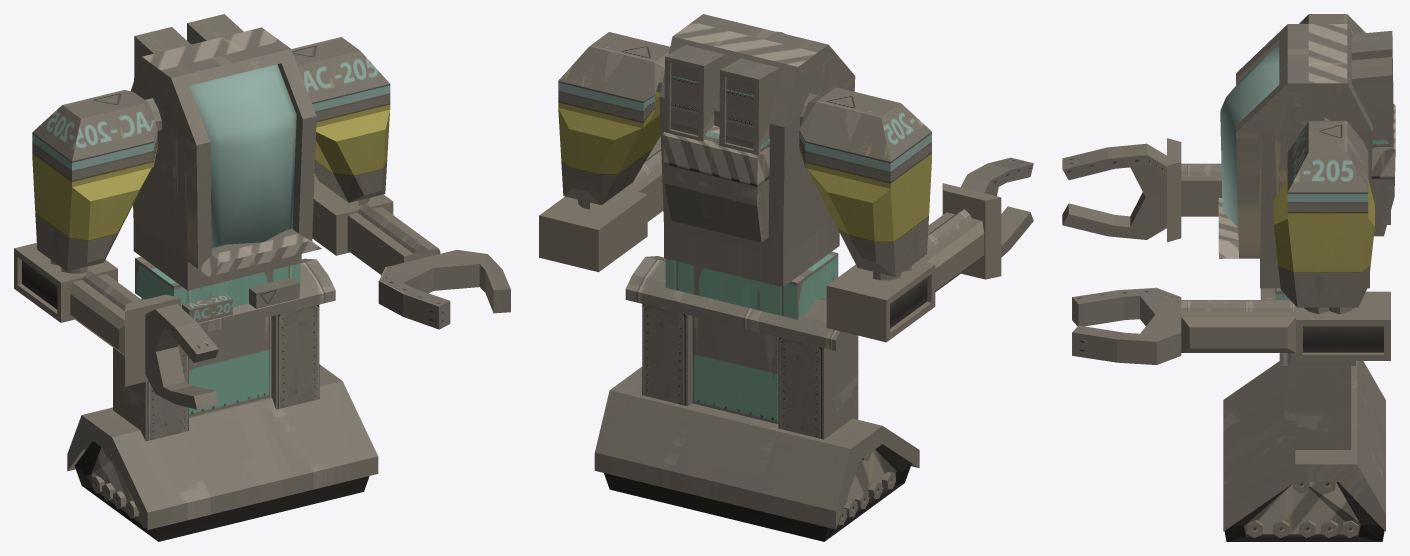
File: worker_drone_v2.dae
3 renders of one model, left to right at view 1: azimuth 30°, elevation 25°; view 2: azimuth 150°, elevation 25°; view 3: azimuth 270°, elevation 25°, orthographic. The views are drawn at different scales.
Visible parts, largest first — view 1: drone_worker; view 2: drone_worker; view 3: drone_worker.
Part boxes in pixels (<box>): drone_worker: <box>14,14,510,541</box>; drone_worker: <box>539,14,1033,541</box>; drone_worker: <box>1062,14,1395,541</box>.
Size of the model in its own units: 5.68 by 4.51 by 6.55.
